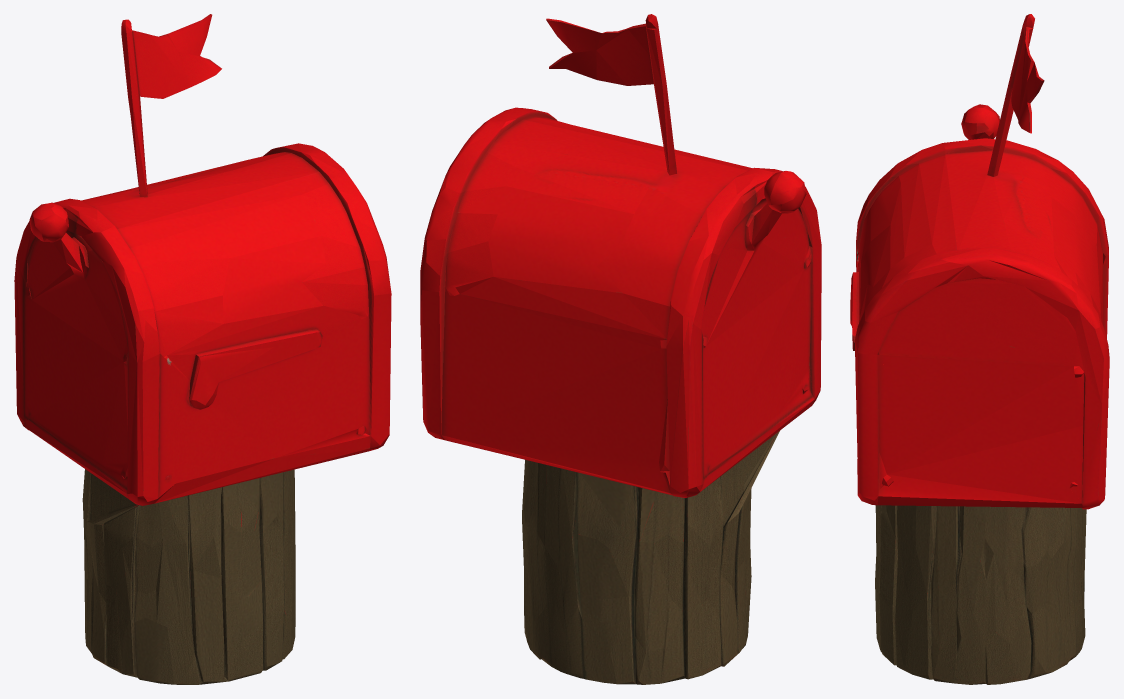
The model's file is mailbox.glb.
3 views of the same model, side by side, from view 1: azimuth 30°, elevation 25°; view 2: azimuth 150°, elevation 25°; view 3: azimuth 270°, elevation 25° (orthographic). The views are drawn at different scales.
Size of the model in its own units: 0.9722 by 1.9 by 0.7351.
1 material, 1 textured.
